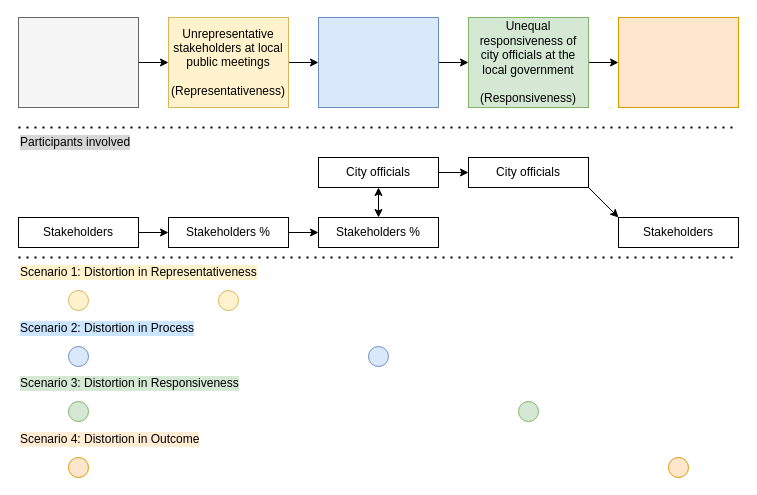
Some shapes in this 757 by 495 pixel diagram are drawn without their labels. Here are the shapes that lost their labels. From the top down, the centre of each, then its label:
the point at 78,62: Preference differences between groups of stakeholders (Preference)
the point at 378,62: Communication at local public meetings (Process)
the point at 678,62: Distortion in policy outcomes (Outcome)
